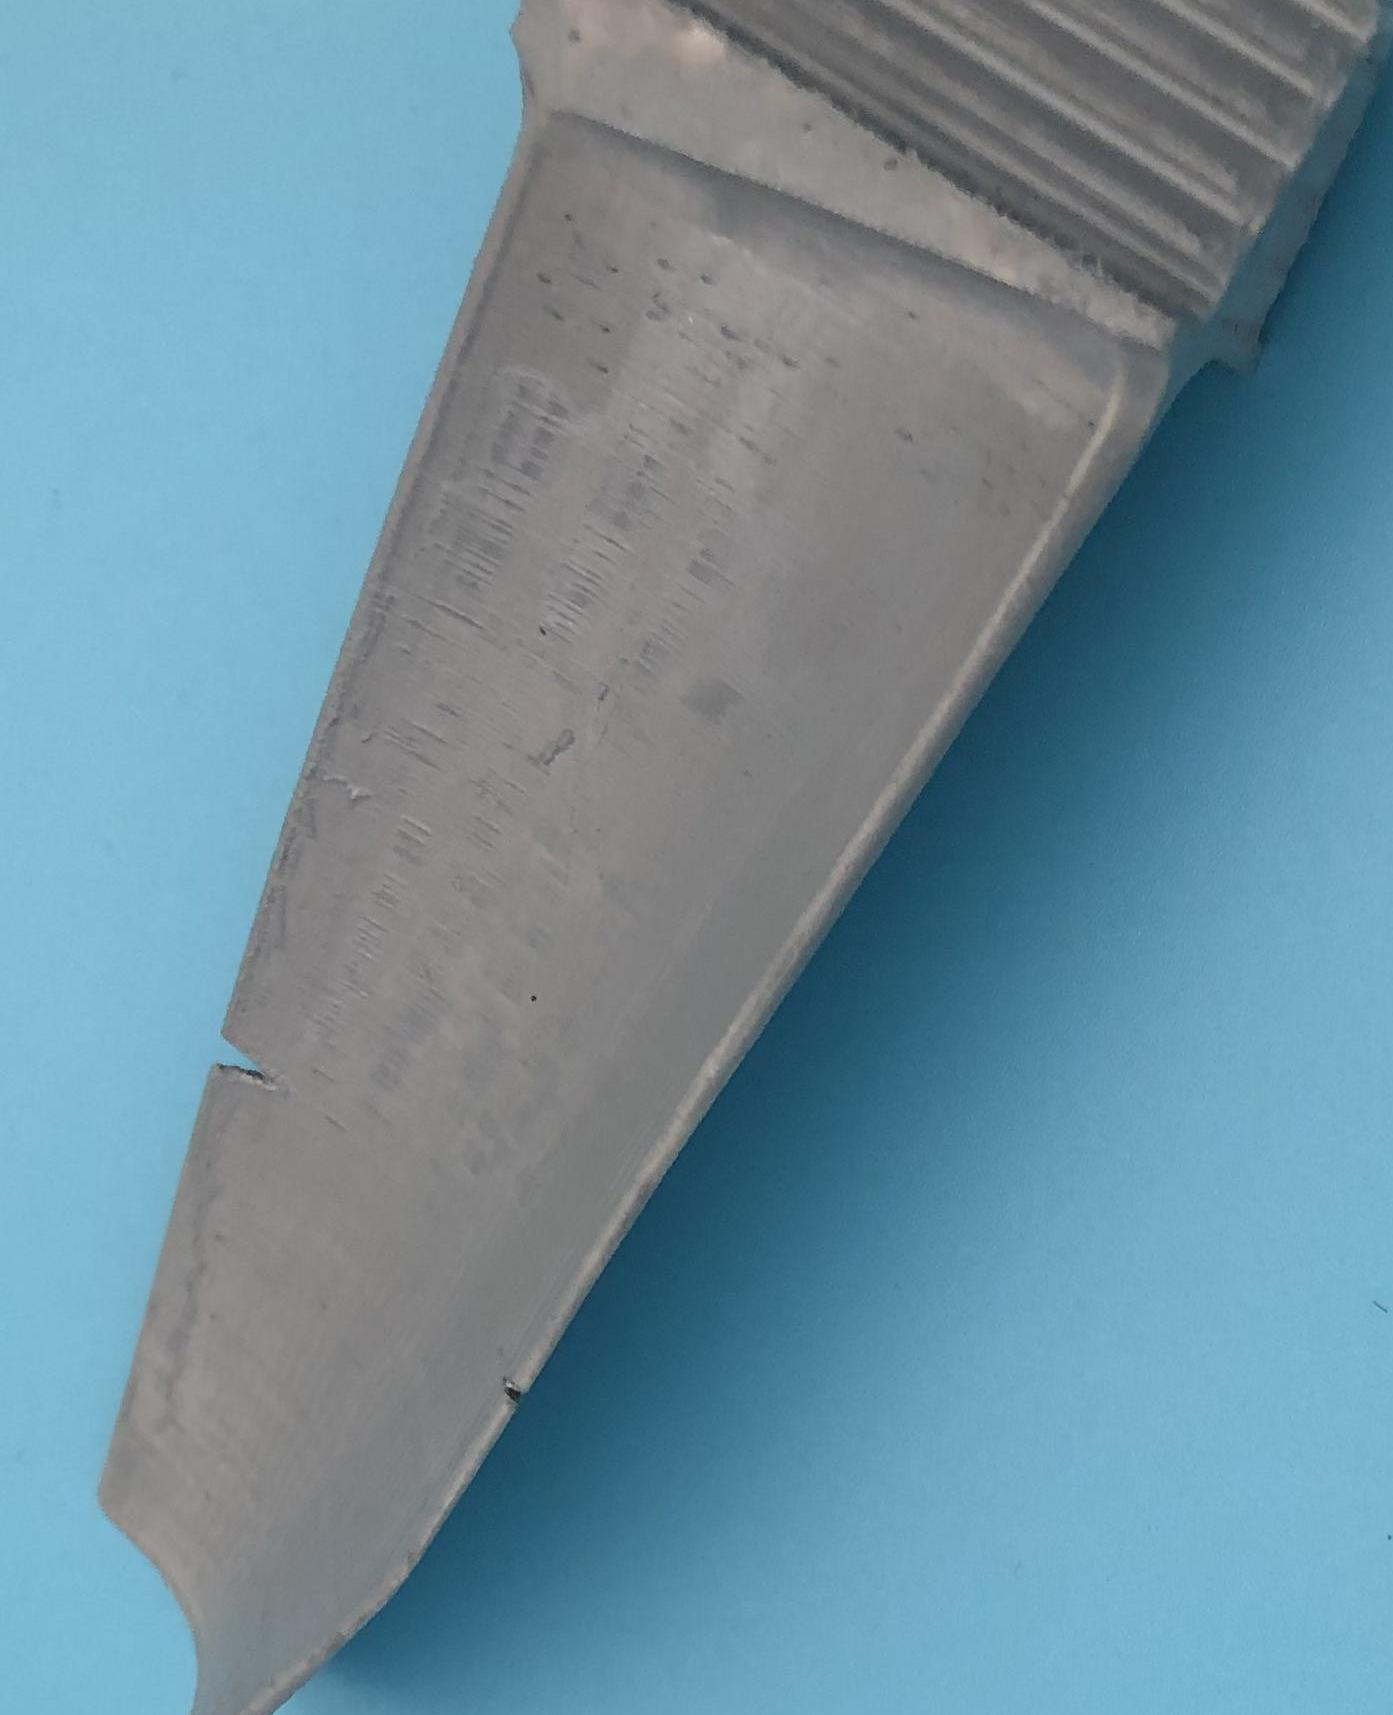groove: (213, 1017, 293, 1107), (489, 1370, 530, 1421)
